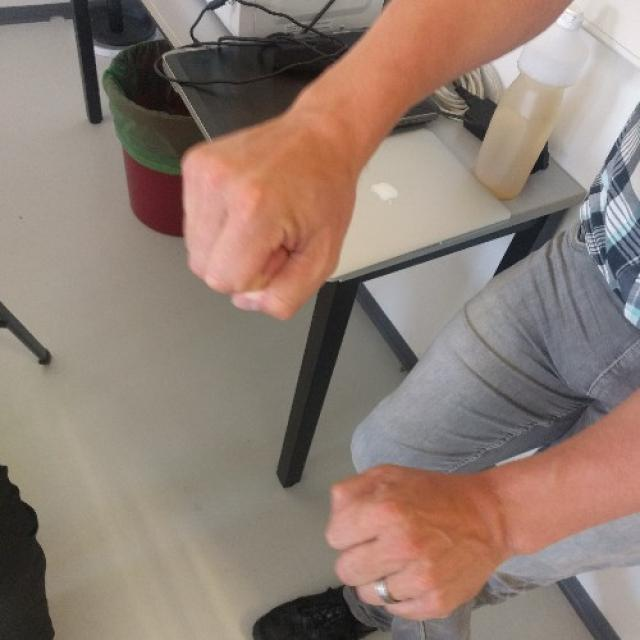fist: (171, 107, 361, 326), (316, 456, 508, 628)
